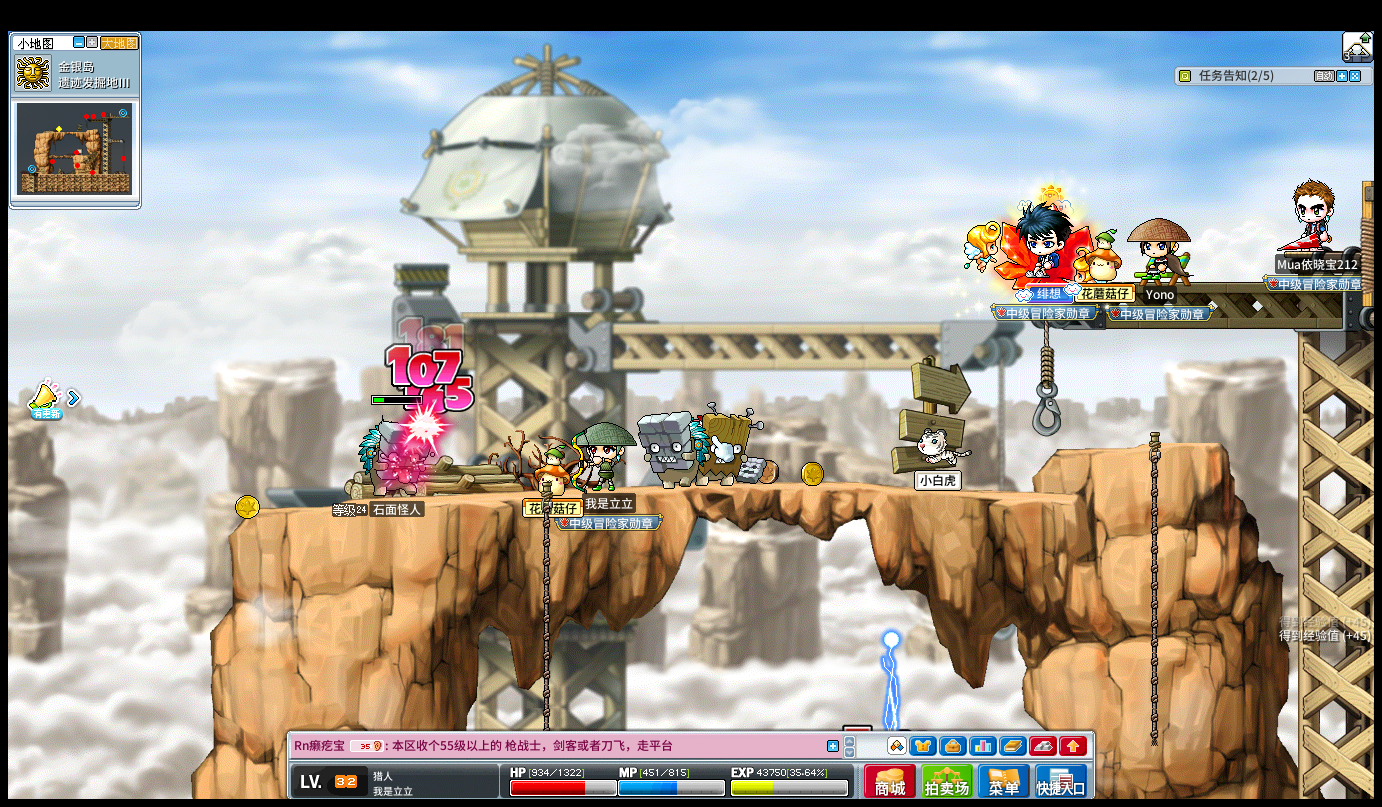floor: (202, 477, 1128, 504), (347, 479, 1085, 501), (1052, 437, 1225, 453), (1052, 441, 1229, 455)
monster: (638, 410, 706, 487), (698, 405, 762, 486), (358, 420, 412, 494)
rope: (1145, 425, 1161, 752), (539, 481, 551, 710)
